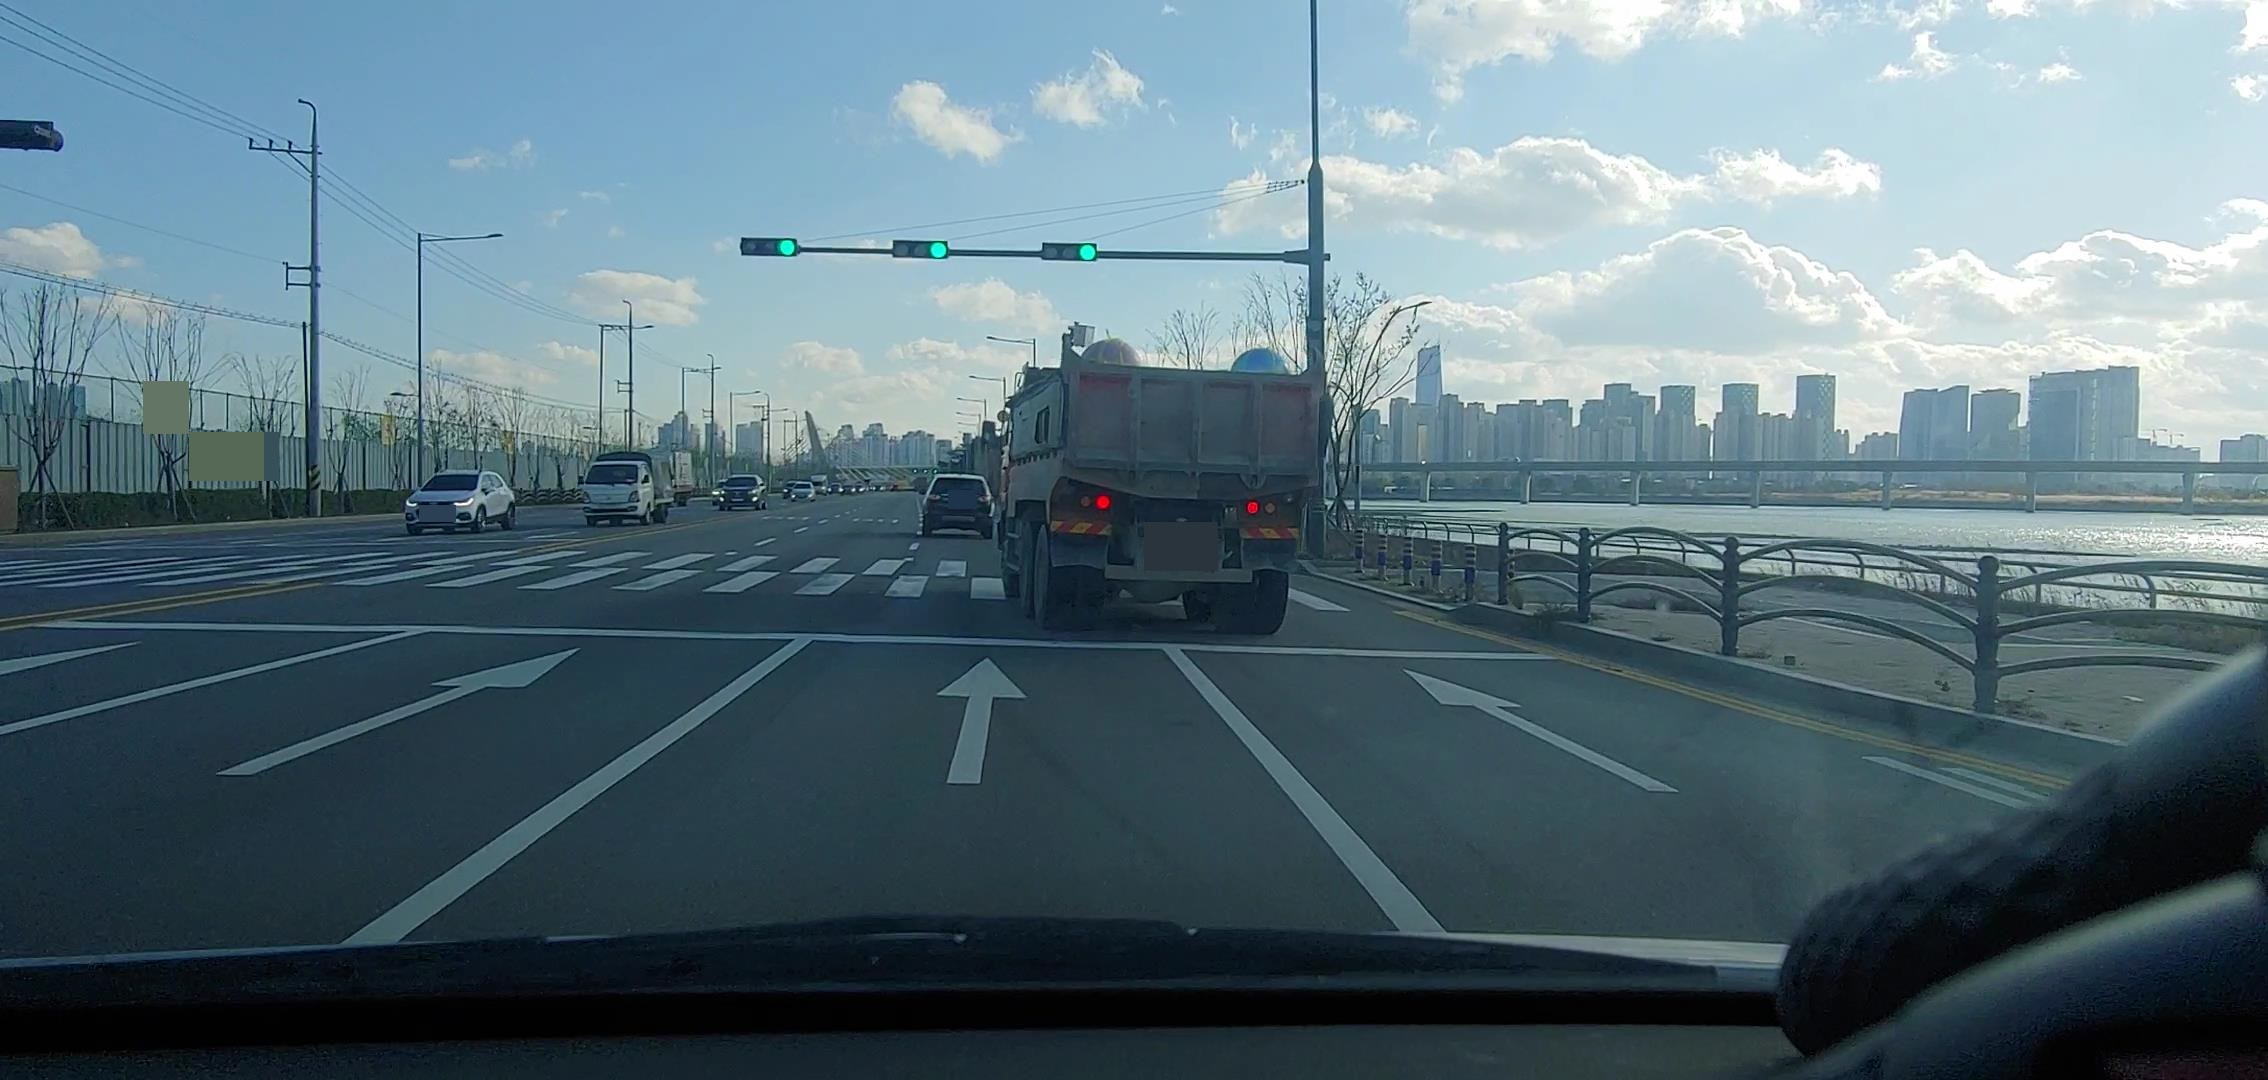불법차량: (981, 333, 1335, 632)
